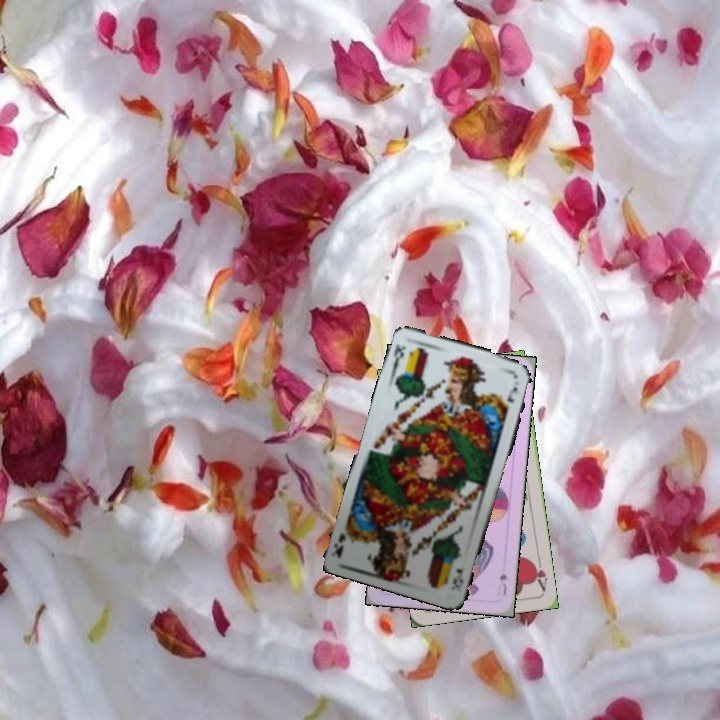EK: (387, 340, 408, 378), (446, 564, 466, 594)
HA: (528, 553, 550, 593)
SU: (493, 570, 510, 598)
